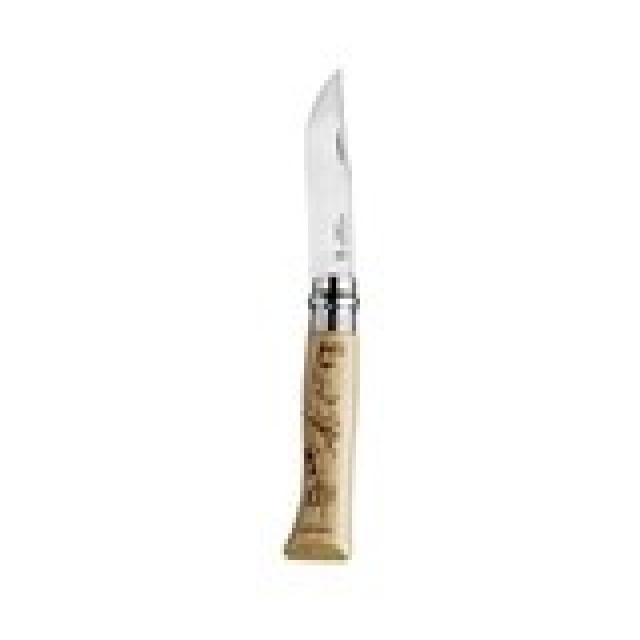Knife: (267, 62, 370, 568)
